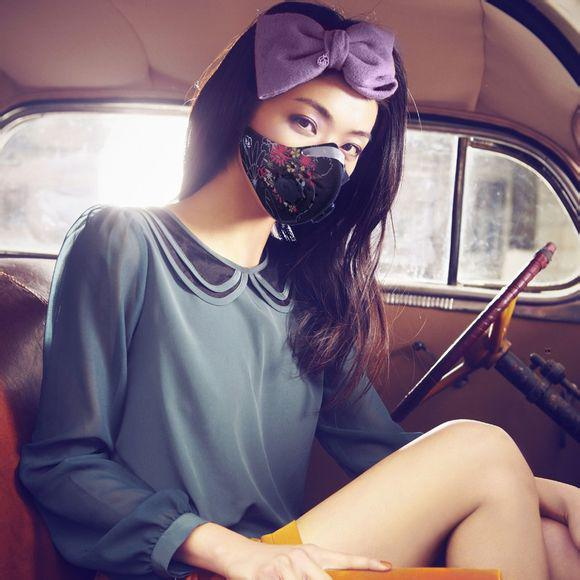OK: (245, 92, 373, 225)
